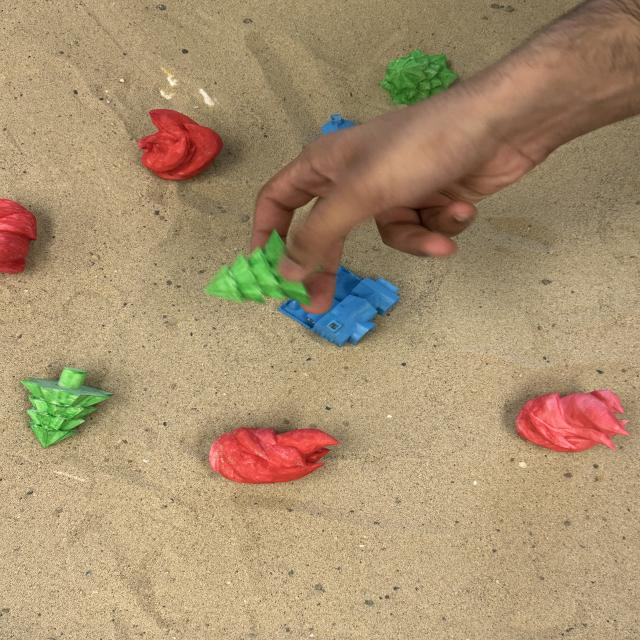fire: (207, 425, 341, 485), (514, 388, 631, 453), (136, 107, 224, 182), (0, 198, 48, 273)
house: (275, 263, 402, 348), (314, 114, 354, 133)
tree: (19, 365, 115, 449), (201, 230, 306, 303), (379, 51, 457, 102)
